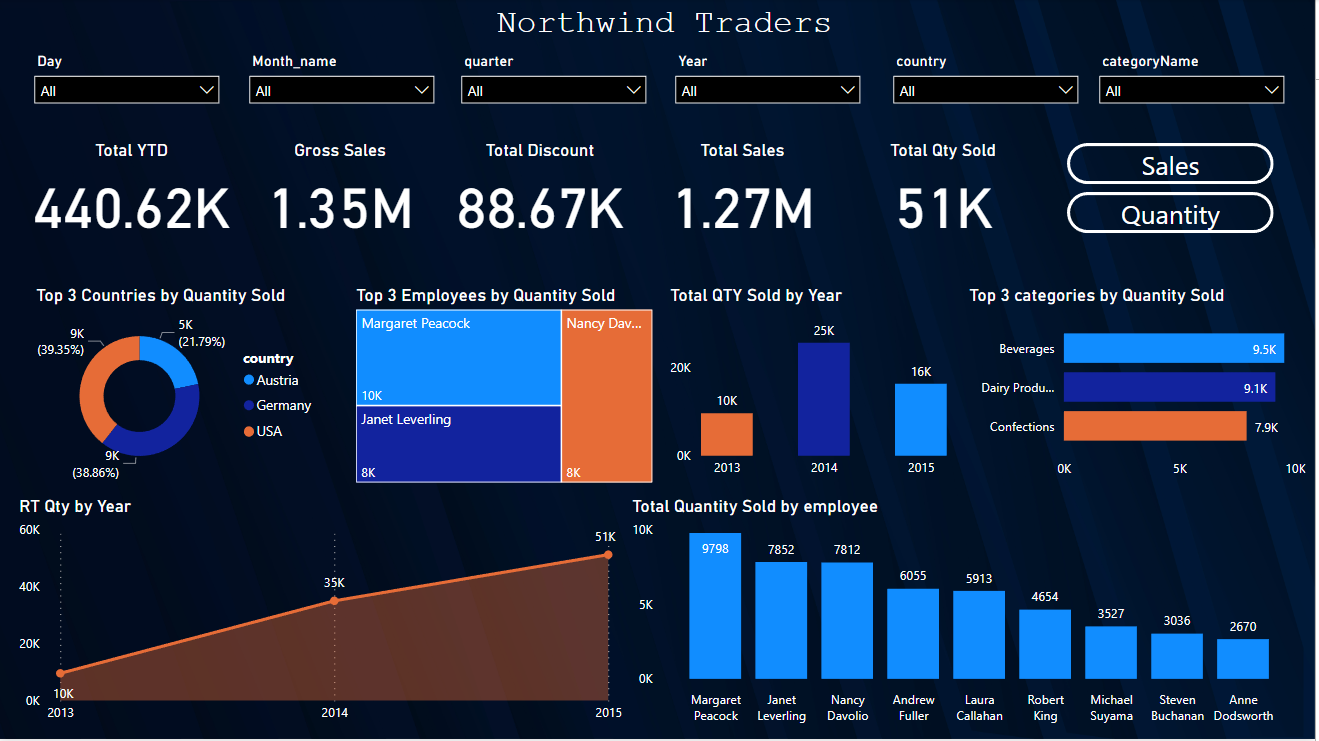

The dashboard page shown, as its layout file describes it:
{"tool":"powerbi","page":{"name":"Page 1","canvas":[1280,720],"ordinal":0},"visuals":[{"type":"slicer","fields":{"Values":["Dim_date.Day"]},"box":[24.3,46.7,200.4,90.5],"z":0},{"type":"columnChart","title":"Total Sales by employee","fields":{"Y":["Measure.Total Sales"],"Category":["employees.employeeName"]},"box":[647.8,507.7,612.8,212],"z":0,"group":"g1"},{"type":"barChart","title":"Top 3 categories by Sales ","fields":{"Category":["categories.categoryName"],"Y":["Measure.Total Sales"]},"box":[24.3,295.7,350.2,198.4],"z":1000,"group":"g1"},{"type":"donutChart","title":"Top 3 Countries by Sales ","fields":{"Y":["Measure.Total Sales"],"Category":["customers.country"]},"box":[374.5,295.7,287.9,198.4],"z":2000,"group":"g1"},{"type":"slicer","fields":{"Values":["Dim_date.Month_name"]},"box":[233.4,46.7,200.4,90.5],"z":2000},{"type":"areaChart","fields":{"Category":["Dim_date.Date.Variation.Date Hierarchy.Year"],"Y":["Measure.RT Sales"]},"box":[24.3,507.7,615.7,212],"z":3000,"group":"g1"},{"type":"treemap","title":"Top 3 Employees by Sales ","fields":{"Group":["employees.employeeName"],"Values":["Measure.Total Sales"]},"box":[676.9,295.7,297.6,197.4],"z":4000,"group":"g1"},{"type":"clusteredColumnChart","fields":{"Category":["Dim_date.Year"],"Y":["Measure.Total Sales"]},"box":[981.4,295.7,279.1,198.4],"z":5000,"group":"g1"},{"type":"slicer","fields":{"Values":["Dim_date.quarter"]},"box":[439.6,46.7,200.4,90.5],"z":5000},{"type":"slicer","fields":{"Values":["Dim_date.Year"]},"box":[647.8,46.7,200.4,90.5],"z":8000},{"type":"slicer","fields":{"Values":["customers.country"]},"box":[859.8,46.7,200.4,90.5],"z":10000},{"type":"slicer","fields":{"Values":["categories.categoryName"]},"box":[1060.2,46.7,200.4,90.5],"z":11000},{"type":"textbox","box":[255.8,0,783,49.6],"z":12000},{"type":"card","title":"Total YTD","fields":{"Values":["Measure.TOTAL YTD"]},"box":[24.3,137.1,209.1,100.2],"z":13000},{"type":"card","title":"Total Qty Sold","fields":{"Values":["Measure.Total QTY Sold"]},"box":[825.8,137.1,184.8,100.2],"z":14000},{"type":"card","title":"Total Discount","fields":{"Values":["Measure.Total Discount"]},"box":[433.8,137.1,184.8,100.2],"z":15000},{"type":"card","title":"Total Sales","fields":{"Values":["Measure.Total Sales"]},"box":[630.3,137.1,185.8,100.2],"z":16000},{"type":"card","title":"Gross Sales","fields":{"Values":["Measure.Gross Sales"]},"box":[239.3,137.1,185,100],"z":17000},{"type":"actionButton","box":[1038.8,140.1,201.3,39.9],"z":18000},{"type":"actionButton","box":[1038.8,187.7,201.3,39.9],"z":19000},{"type":"group","id":"g1","title":"Sales","box":[24.3,295.7,1236.2,424.1],"z":20000}]}

Visuals, with their boxes in screenshot pixels (x1, y1, x2, y2), scaled from the page's 1280x720 canvas onto the 1319x741 screenshot:
slicer - Dim_date.Day: bbox=(25, 48, 232, 141)
"Total Sales by employee" columnChart: bbox=(668, 523, 1299, 740)
"Top 3 categories by Sales " barChart: bbox=(25, 304, 386, 509)
"Top 3 Countries by Sales " donutChart: bbox=(386, 304, 683, 509)
slicer - Dim_date.Month_name: bbox=(241, 48, 447, 141)
areaChart - Dim_date.Date.Variation.Date Hierarchy.Year x Measure.RT Sales: bbox=(25, 523, 660, 740)
"Top 3 Employees by Sales " treemap: bbox=(698, 304, 1004, 507)
clusteredColumnChart - Dim_date.Year x Measure.Total Sales: bbox=(1011, 304, 1299, 509)
slicer - Dim_date.quarter: bbox=(453, 48, 660, 141)
slicer - Dim_date.Year: bbox=(668, 48, 874, 141)
slicer - customers.country: bbox=(886, 48, 1093, 141)
slicer - categories.categoryName: bbox=(1093, 48, 1299, 141)
textbox: bbox=(264, 0, 1070, 51)
"Total YTD" card: bbox=(25, 141, 241, 244)
"Total Qty Sold" card: bbox=(851, 141, 1041, 244)
"Total Discount" card: bbox=(447, 141, 637, 244)
"Total Sales" card: bbox=(650, 141, 841, 244)
"Gross Sales" card: bbox=(247, 141, 437, 244)
actionButton: bbox=(1070, 144, 1278, 185)
actionButton: bbox=(1070, 193, 1278, 234)
"Sales" group: bbox=(25, 304, 1299, 740)
